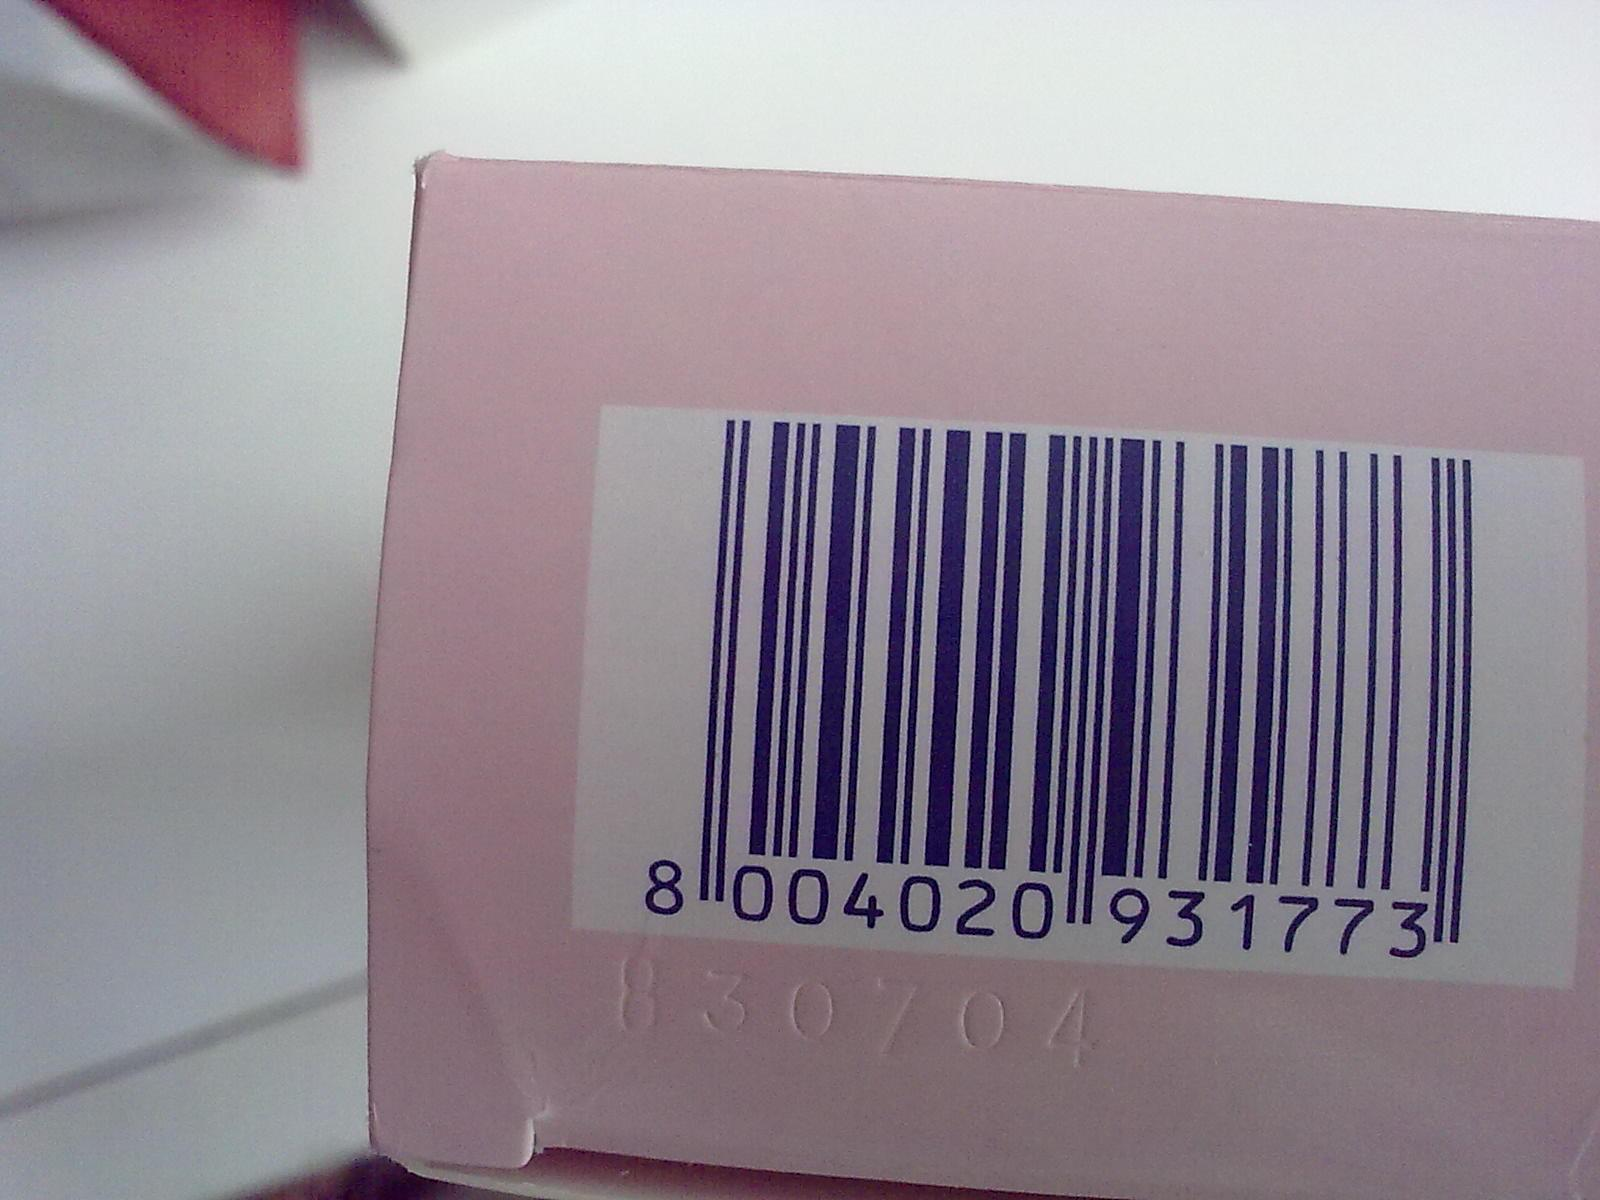barcode: (574, 400, 1579, 989)
